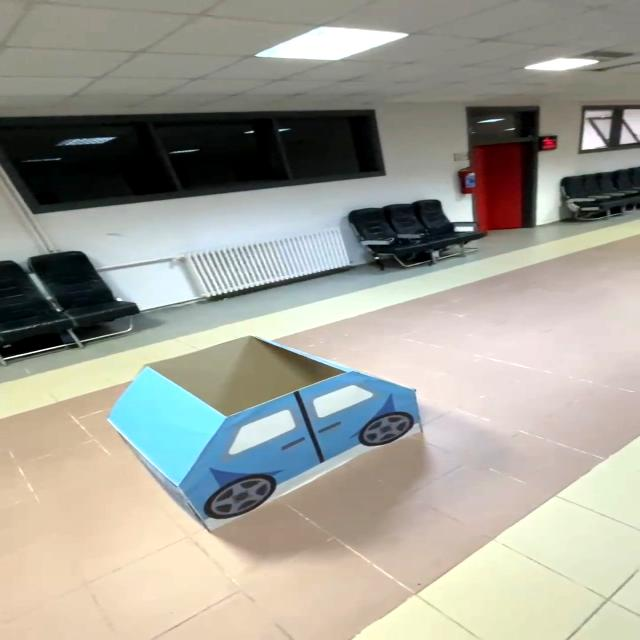blue_car: (87, 326, 442, 543)
